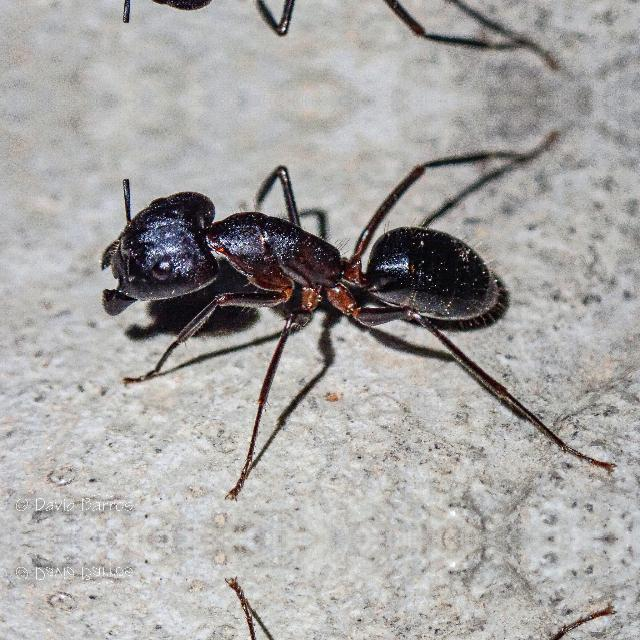Tetramorium: (72, 146, 540, 390), (72, 0, 540, 52)
